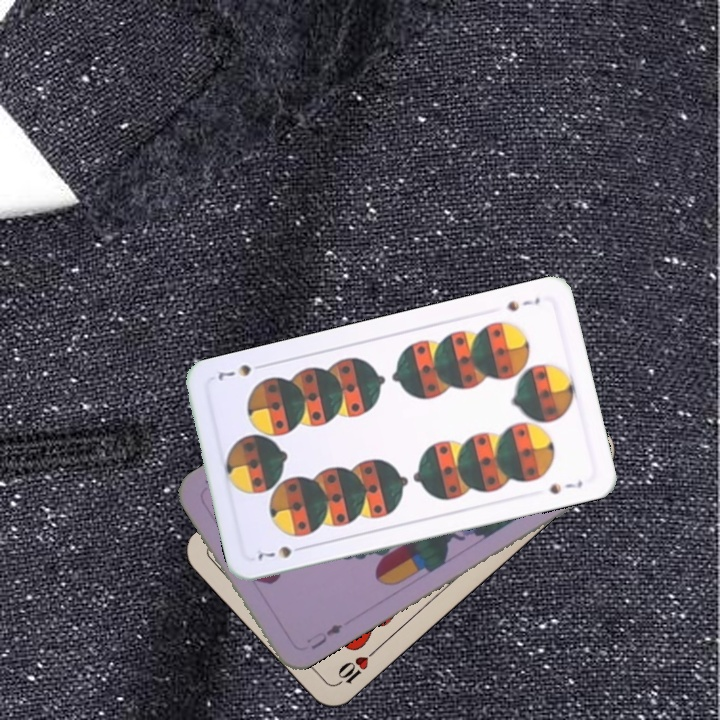EU: (302, 620, 345, 652)
H10: (330, 645, 379, 689)
S7: (253, 541, 309, 562), (501, 293, 543, 314)
